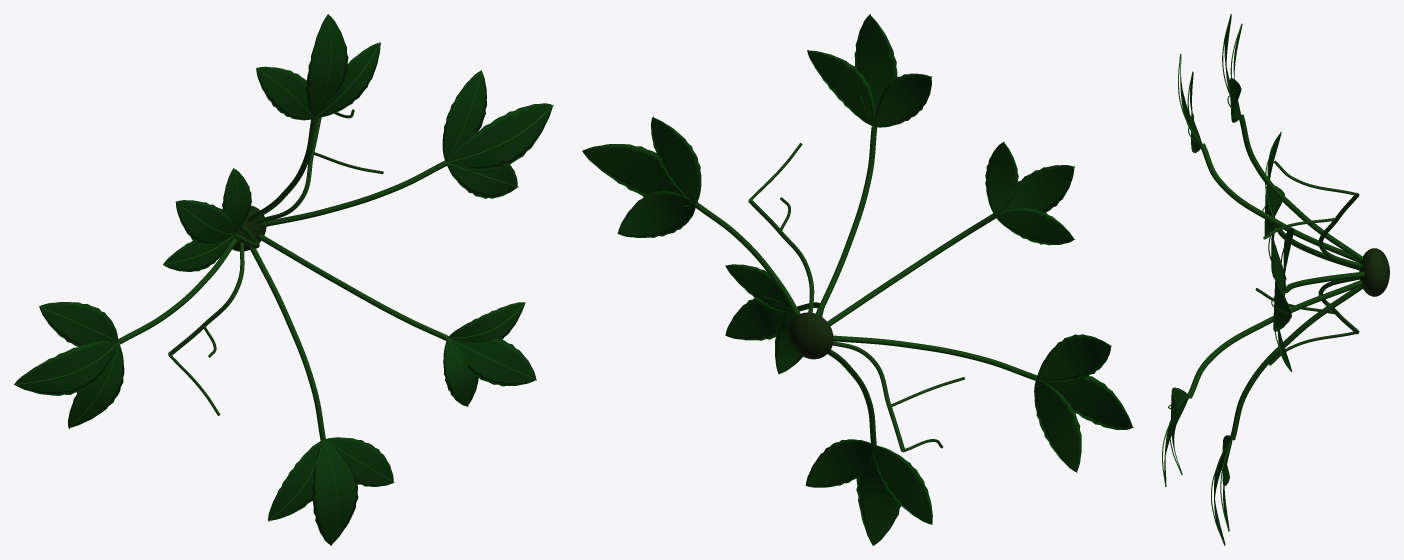
The model's file is strawberry_plant_v2.obj.
3 renders of one model, left to right at view 1: azimuth 30°, elevation 25°; view 2: azimuth 150°, elevation 25°; view 3: azimuth 270°, elevation 25°, orthographic.
Visible parts, largest first — view 1: leaf_center_v2_00, leaf_center_v2_03, leaf_center_v2_01, leaf_center_v2_02, leaf_center_v2_05, leaf_right_v2_01, leaf_left_v2_00, leaf_left_v2_01, leaf_left_v2_02, leaf_right_v2_03, leaf_left_v2_03, leaf_center_v2_04 (+12 smaller); view 2: leaf_center_v2_00, leaf_left_v2_01, leaf_right_v2_00, leaf_center_v2_01, leaf_right_v2_01, leaf_center_v2_02, leaf_left_v2_00, leaf_right_v2_03, leaf_right_v2_02, leaf_left_v2_03, leaf_center_v2_03, leaf_left_v2_02 (+14 smaller); view 3: petiole_v2_03, petiole_v2_05, petiole_v2_02, petiole_v2_04, strawberry_crown_v2, leaf_center_v2_00, inflorescence_main_00, petiole_v2_00, leaf_center_v2_01, petiole_v2_01, inflorescence_main_01, leaf_left_v2_05 (+9 smaller).
Part boxes in pixels (<box>): leaf_center_v2_00: <box>448,103,552,170</box>; leaf_center_v2_03: <box>312,441,358,544</box>; leaf_center_v2_01: <box>14,340,117,395</box>; leaf_center_v2_02: <box>306,15,348,117</box>; leaf_center_v2_05: <box>450,338,535,386</box>; leaf_right_v2_01: <box>39,302,118,346</box>; leaf_left_v2_00: <box>442,71,486,161</box>; leaf_left_v2_01: <box>68,344,124,427</box>; leaf_left_v2_02: <box>256,66,313,120</box>; leaf_right_v2_03: <box>268,440,322,520</box>; leaf_left_v2_03: <box>325,437,393,486</box>; leaf_center_v2_04: <box>176,200,233,245</box>; leaf_center_v2_00: <box>582,144,690,206</box>; leaf_left_v2_01: <box>1034,378,1081,472</box>; leaf_right_v2_00: <box>618,190,695,237</box>; leaf_center_v2_01: <box>1037,376,1132,430</box>; leaf_right_v2_01: <box>1037,334,1110,381</box>; leaf_center_v2_02: <box>854,15,897,126</box>; leaf_left_v2_00: <box>651,117,701,203</box>; leaf_right_v2_03: <box>873,445,932,524</box>; leaf_right_v2_02: <box>807,50,874,126</box>; leaf_left_v2_03: <box>806,439,873,487</box>; leaf_center_v2_03: <box>856,451,900,545</box>; leaf_left_v2_02: <box>874,73,931,127</box>; petiole_v2_03: <box>1230,286,1362,440</box>; petiole_v2_05: <box>1187,280,1362,398</box>; petiole_v2_02: <box>1239,114,1363,262</box>; petiole_v2_04: <box>1200,143,1360,263</box>; strawberry_crown_v2: <box>1359,248,1389,296</box>; leaf_center_v2_00: <box>1273,275,1291,331</box>; inflorescence_main_00: <box>1318,193,1362,268</box>; petiole_v2_00: <box>1285,271,1364,292</box>; leaf_center_v2_01: <box>1264,185,1284,235</box>; petiole_v2_01: <box>1274,224,1359,270</box>; inflorescence_main_01: <box>1318,278,1359,334</box>; leaf_left_v2_05: <box>1170,387,1189,424</box>.
Bounding box in the file's own units: 0.4909 × 0.4573 × 0.1776.
